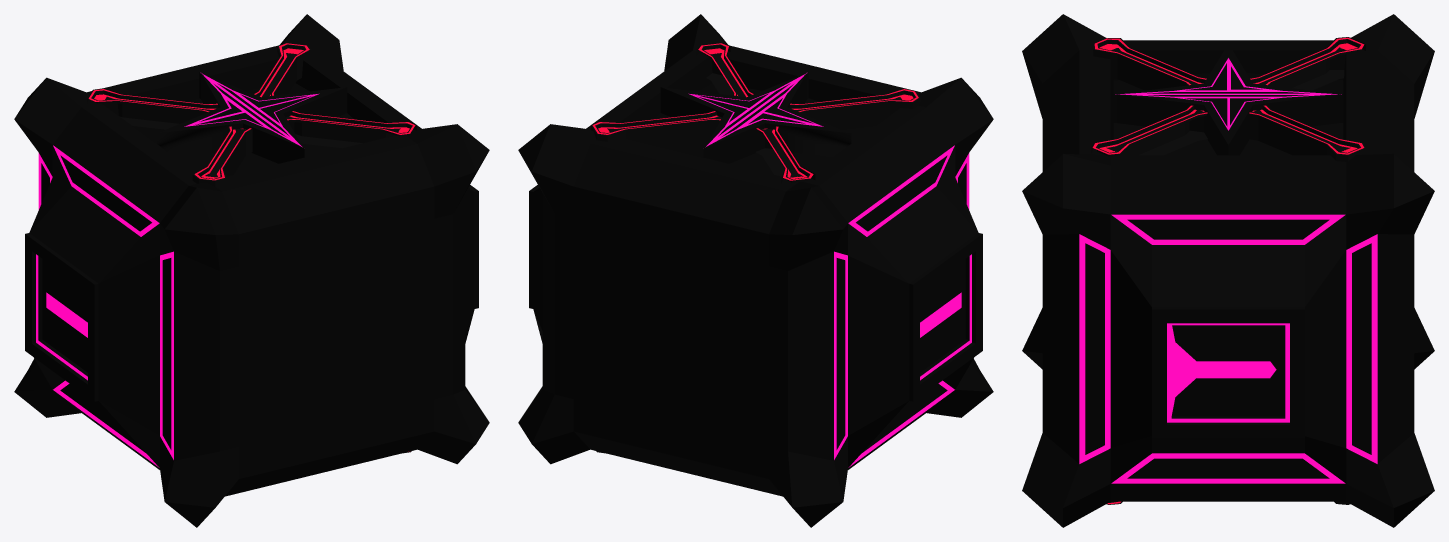
Rendered from SlashCube.fbx.
The picture shows the model from 3 angles, left to right: view 1: azimuth 30°, elevation 25°; view 2: azimuth 150°, elevation 25°; view 3: azimuth 270°, elevation 25°; orthographic projection. The views are drawn at different scales.
Visible parts, largest first — view 1: Cube.003, Cube.005; view 2: Cube.003, Cube.005; view 3: Cube.003, Cube.005.
Part boxes in pixels (x1,y1,x2,y2): Cube.003: (14,14,489,527); Cube.005: (87,42,416,186); Cube.003: (518,14,993,527); Cube.005: (591,42,920,183); Cube.003: (1022,14,1434,527); Cube.005: (1091,37,1365,161).
Size of the model in its own units: 236 by 200 by 200.
